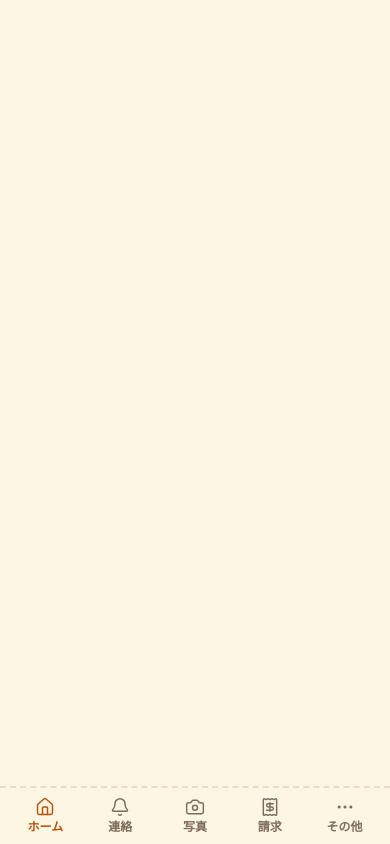
Scenario: MobileTabs › overflow panel position accounts for iOS safe-area-inset-bottom
# Open the overflow panel
Click the button "その他".
click(345, 816)  # box [307, 793, 382, 839]
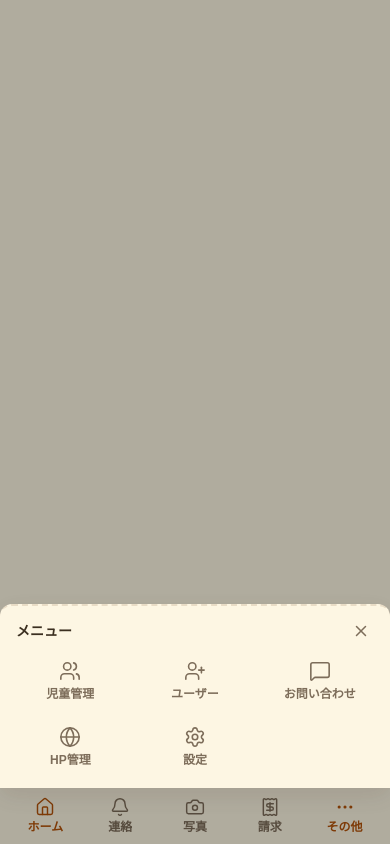
Check: the text "メニュー" is shown, box [16, 621, 72, 641]
